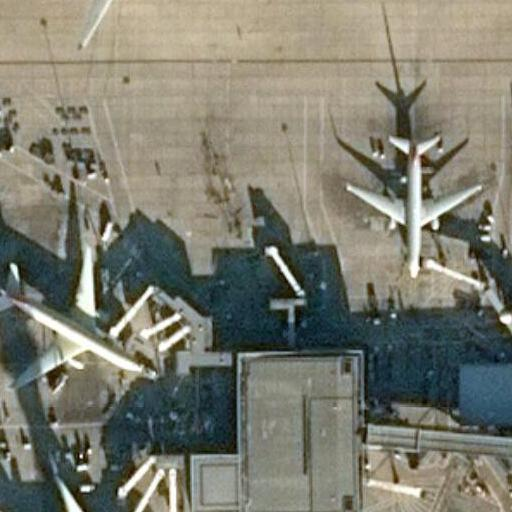Aircraft: (0, 239, 157, 390), (342, 127, 478, 276), (10, 0, 197, 48), (0, 471, 165, 512)
